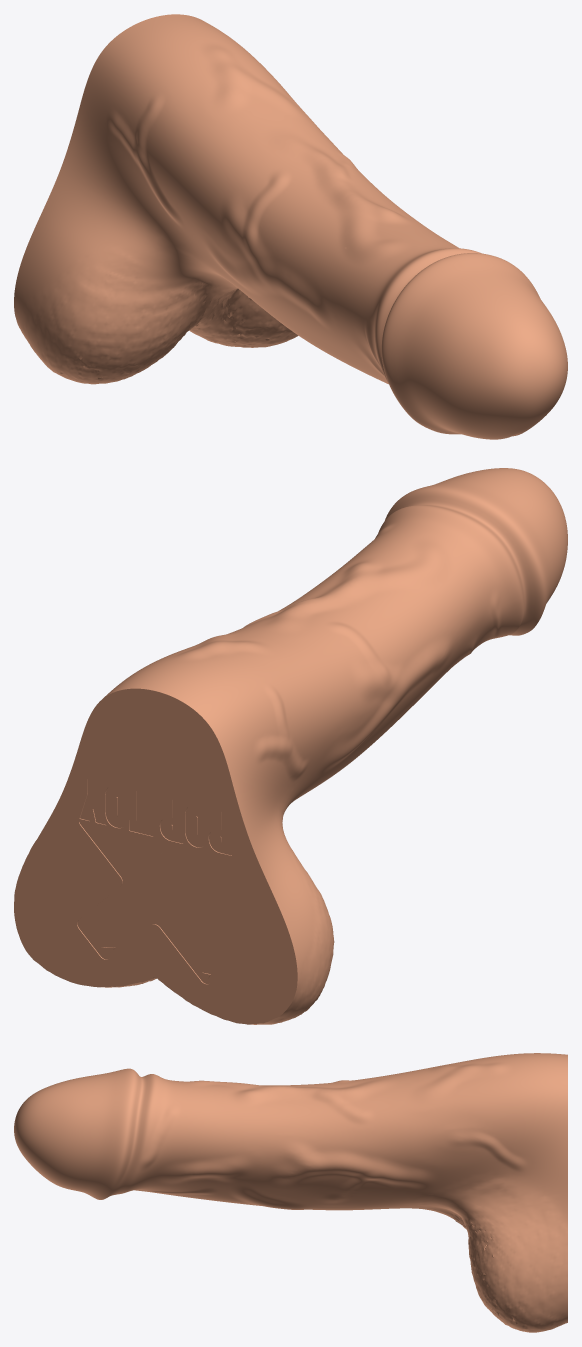
3 renders of one model, top to bottom at view 1: azimuth 30°, elevation 25°; view 2: azimuth 150°, elevation 25°; view 3: azimuth 270°, elevation 25°, orthographic. The views are drawn at different scales.
Visible parts, largest first — view 1: xpoptoy02veined; view 2: xpoptoy02veined; view 3: xpoptoy02veined.
Boxes of the visible parts, x1,y1,x2,y2 form: xpoptoy02veined: (14,14,567,439); xpoptoy02veined: (14,468,567,1024); xpoptoy02veined: (14,1053,567,1332).
Bounding box in the file's own units: 0.6496 × 0.7089 × 1.49.
